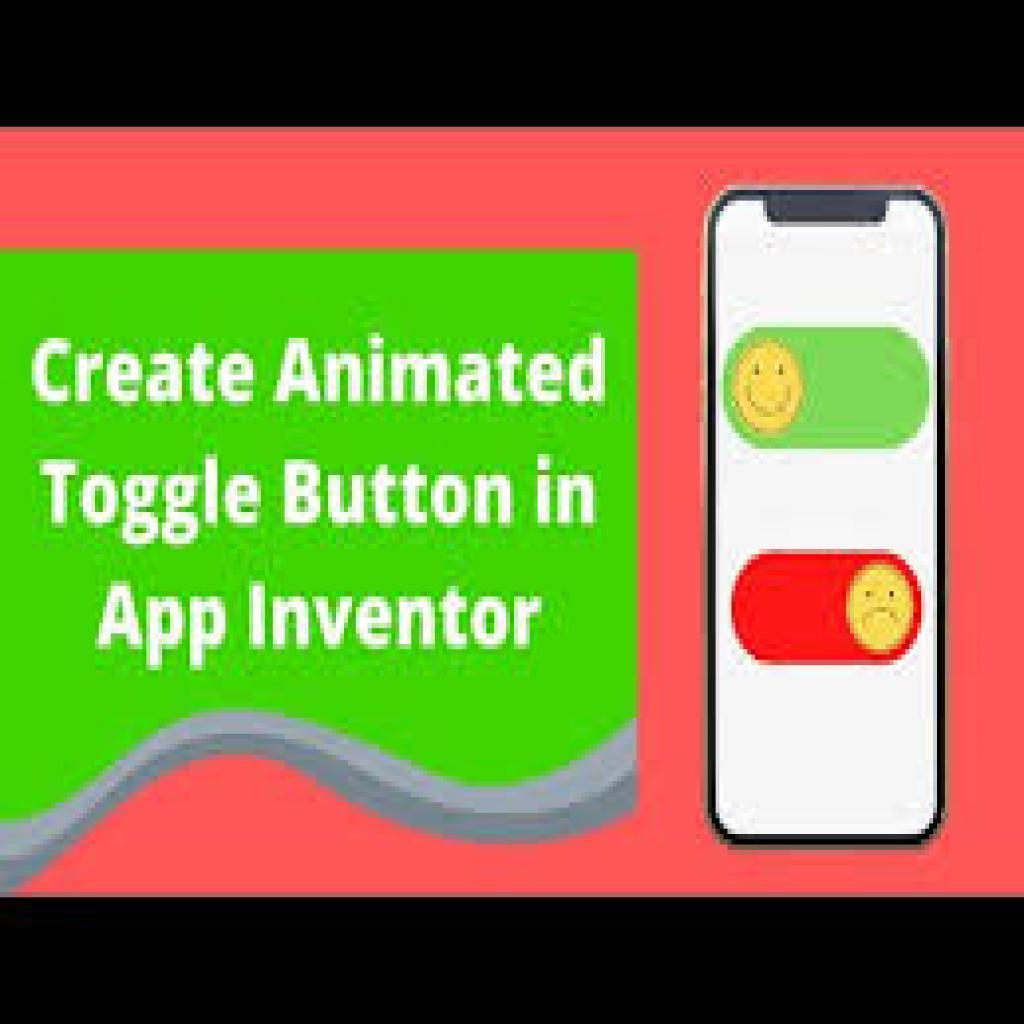switch: (728, 543, 927, 676), (724, 328, 932, 449)
